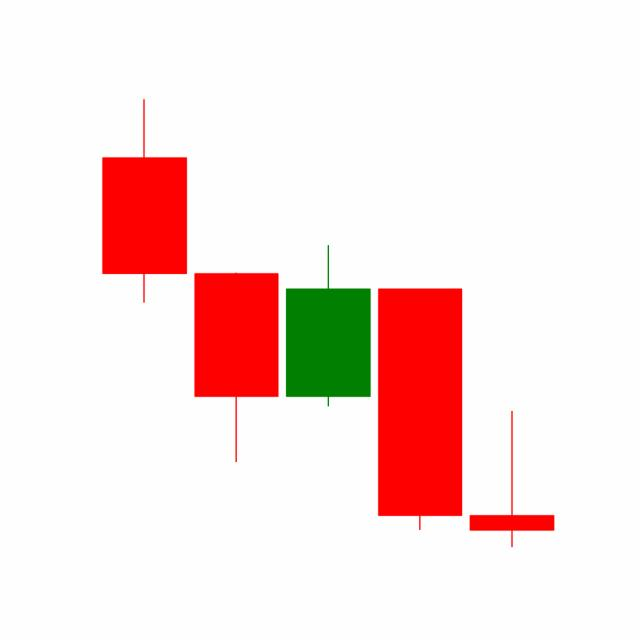Marubozu: (373, 285, 467, 532)
